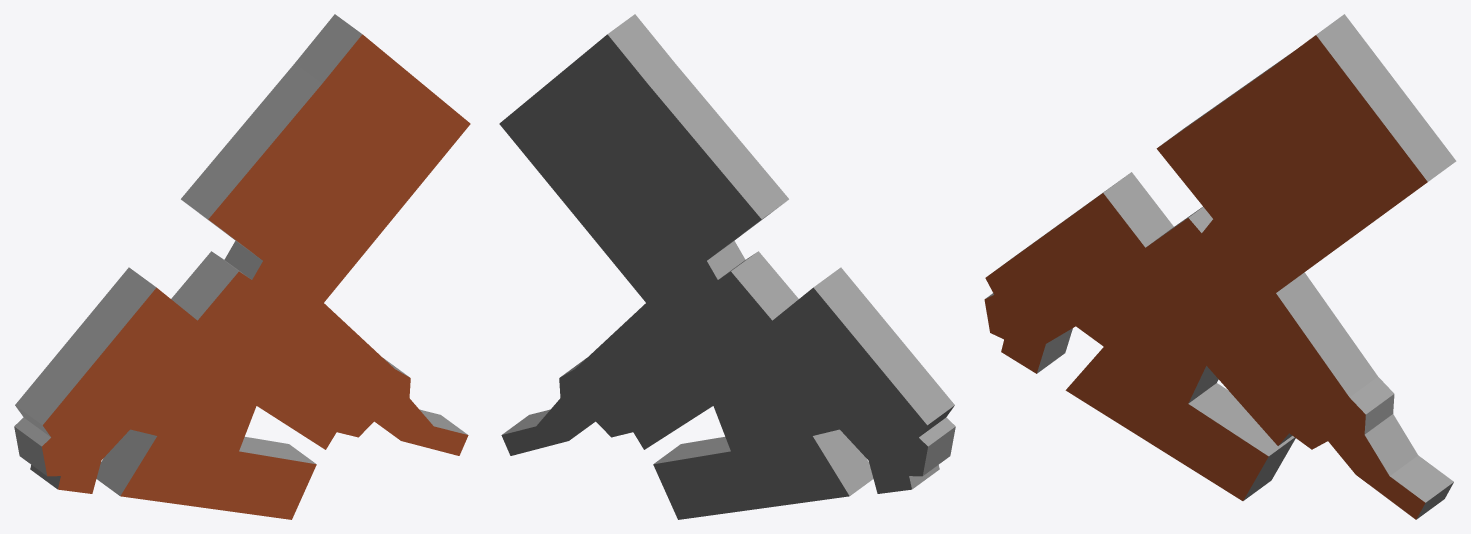
The model's file is construction_1701_assumed_A_Casa_h6m.obj.
The picture shows the model from 3 angles, left to right: view 1: azimuth 30°, elevation 25°; view 2: azimuth 150°, elevation 25°; view 3: azimuth 330°, elevation 25°; orthographic projection. The views are drawn at different scales.
Visible parts, largest first — view 1: construction_1701_assumed_A_Casa; view 2: construction_1701_assumed_A_Casa; view 3: construction_1701_assumed_A_Casa.
Part boxes in pixels (left/top/right/bottom): construction_1701_assumed_A_Casa: left=14, top=14, right=470, bottom=519; construction_1701_assumed_A_Casa: left=499, top=14, right=955, bottom=519; construction_1701_assumed_A_Casa: left=984, top=14, right=1456, bottom=519.
Size of the model in its own units: 53.69 by 56.03 by 6.
